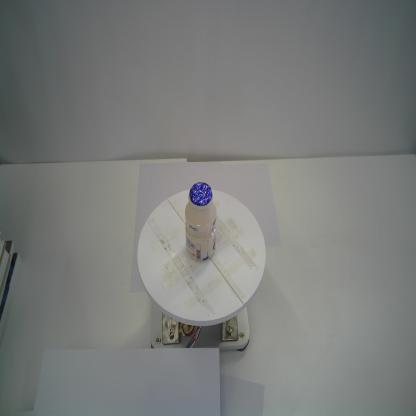Milk: (184, 182, 218, 262)
